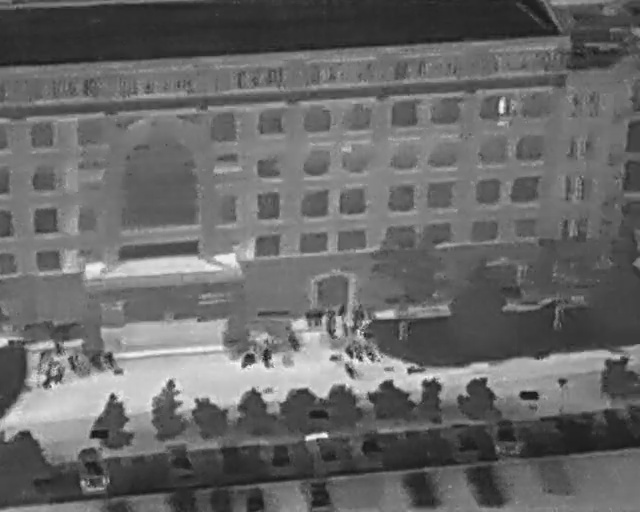Bicycle: (36, 362, 69, 395), (99, 348, 128, 380), (62, 351, 88, 379), (283, 331, 304, 355), (340, 359, 360, 383), (324, 308, 337, 336), (361, 343, 378, 364), (338, 313, 352, 338), (349, 344, 366, 364), (33, 348, 47, 372), (351, 307, 365, 331), (239, 352, 257, 370), (260, 348, 274, 370), (88, 352, 106, 369), (41, 357, 56, 376), (53, 338, 67, 357), (405, 365, 426, 376), (313, 309, 325, 326), (303, 309, 313, 326), (344, 343, 354, 360)
Car: (72, 441, 112, 496), (160, 438, 198, 484), (446, 418, 482, 461), (304, 430, 337, 468), (492, 418, 522, 457), (308, 480, 332, 510), (242, 486, 266, 510)
